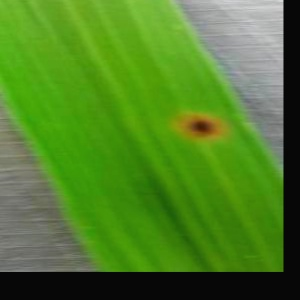Bacterial_Leaf_Blight: (166, 103, 228, 148)
